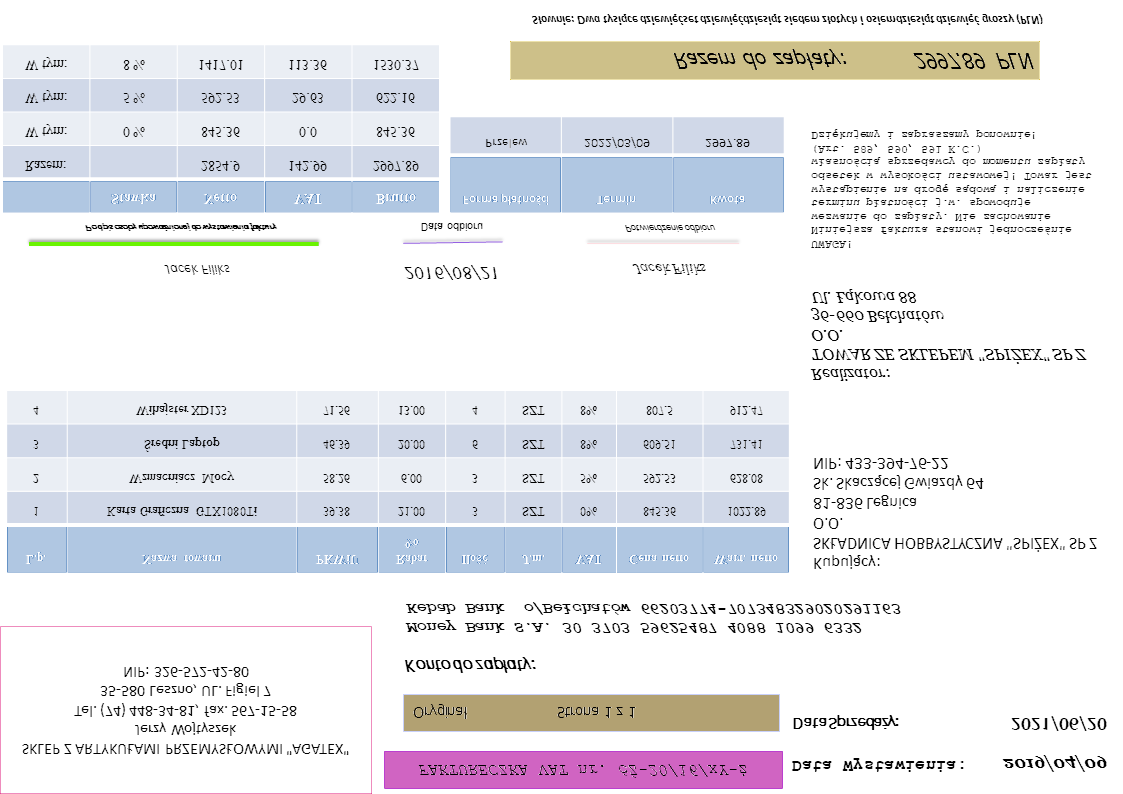Table: (5, 389, 792, 576), (1, 43, 441, 215), (448, 116, 786, 216)
TextBox: (809, 451, 1103, 575), (807, 127, 1095, 253), (17, 662, 352, 761), (807, 286, 1090, 385), (402, 599, 903, 638), (528, 9, 1047, 30), (669, 47, 1036, 75), (415, 761, 751, 780), (410, 700, 639, 724), (82, 218, 279, 237), (788, 756, 966, 777), (400, 653, 539, 679), (788, 711, 901, 735), (399, 260, 500, 285), (999, 752, 1111, 773), (1009, 712, 1107, 735), (628, 259, 709, 281), (620, 220, 719, 237), (161, 260, 234, 280), (418, 220, 485, 235)
